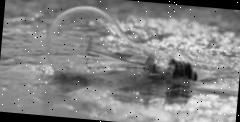lightbulb: (42, 2, 202, 86)
